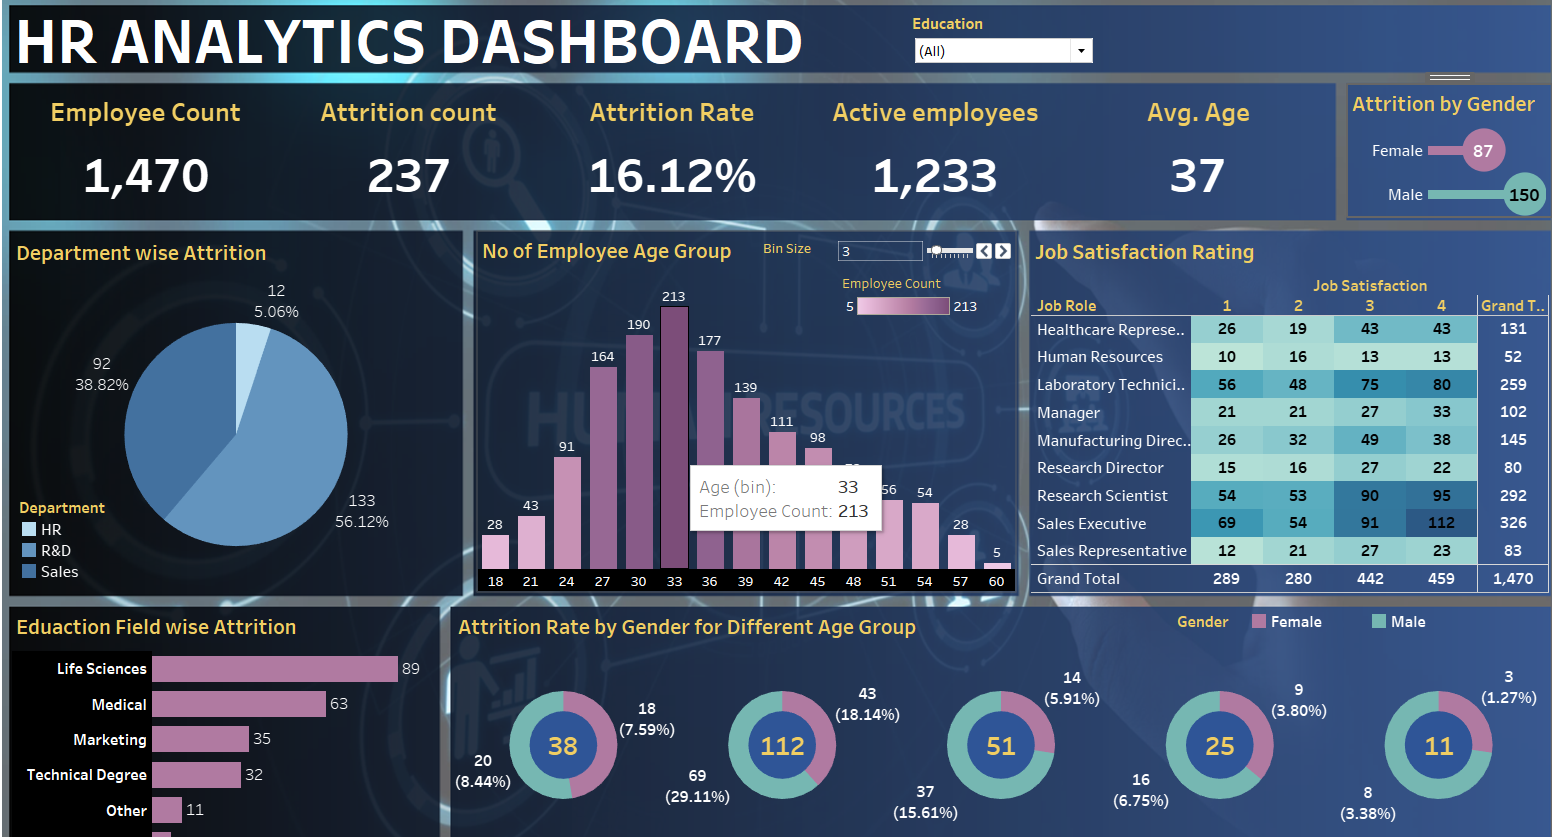

What the dashboard file says about the page in this screenshot:
{"tool":"tableau","page":{"name":"HR ANALYTICS DASHBOARD","canvas":[1580,900],"ordinal":0},"visuals":[{"type":"image","param":"Image/B1.png","box":[8,8,1564,884]},{"type":"text","box":[21,23,899,59]},{"type":"filter","title":"Department wise Attrition","param":"[federated.02vg9jq0c21v1b14svrlw1w6p17q].[none:Education:nk]","box":[922,27,184,53]},{"type":"worksheet","title":"Attrition by Gender","mark":"Automatic","rows":["Gender"],"cols":["Calculation_767019370919948288","Calculation_767019370919948288"],"box":[1358,99,204,131]},{"type":"worksheet","title":"KPI","mark":"Automatic","box":[24,102,1316,129]},{"type":"worksheet","title":"No of Employee Age Group","mark":"Automatic","rows":["Employee Count"],"cols":["Age (bin)"],"box":[488,246,537,359]},{"type":"worksheet","title":"Job Satisfaction Rating","mark":"Square","rows":["Job Role"],"cols":["Job Satisfaction"],"box":[1041,247,519,360]},{"type":"worksheet","title":"Department wise Attrition","mark":"Pie","box":[22,248,448,358]},{"type":"parameter","param":"[Parameters].[Parameter 1]","box":[773,252,251,39]},{"type":"legend","title":"No of Employee Age Group","param":"[federated.02vg9jq0c21v1b14svrlw1w6p17q].[sum:Employee Count:qk]","box":[852,288,140,57]},{"type":"legend","title":"Department wise Attrition","param":"[federated.02vg9jq0c21v1b14svrlw1w6p17q].[none:Department:nk]","box":[29,511,97,85]},{"type":"worksheet","title":"Eduaction Field wise Attrition","mark":"Automatic","rows":["Education Field"],"cols":["Calculation_767019370919948288"],"box":[22,622,425,255]},{"type":"worksheet","title":"Attrition Rate by Gender for Different Age Group","mark":"Pie","rows":["Calculation_578712611751464960","Calculation_578712611751464960"],"cols":["CF_age band"],"box":[464,622,1094,256]},{"type":"legend","title":"Attrition Rate by Gender for Different Age Group","param":"[federated.02vg9jq0c21v1b14svrlw1w6p17q].[none:Gender:nk]","box":[1187,625,371,40]}]}

Visuals, with their boxes on the page's 1580x900 design canvas (x1, y1, x2, y2). These are canvas units, not pixel positions in the 1552x837 screenshot, which may show the page scaled, cropped or inside an application window:
image: BBox(8, 8, 1572, 892)
text: BBox(21, 23, 920, 82)
"Department wise Attrition" filter: BBox(922, 27, 1106, 80)
"Attrition by Gender" worksheet: BBox(1358, 99, 1562, 230)
"KPI" worksheet: BBox(24, 102, 1340, 231)
"No of Employee Age Group" worksheet: BBox(488, 246, 1025, 605)
"Job Satisfaction Rating" worksheet (Square marks): BBox(1041, 247, 1560, 607)
"Department wise Attrition" worksheet (Pie marks): BBox(22, 248, 470, 606)
parameter: BBox(773, 252, 1024, 291)
"No of Employee Age Group" legend: BBox(852, 288, 992, 345)
"Department wise Attrition" legend: BBox(29, 511, 126, 596)
"Eduaction Field wise Attrition" worksheet: BBox(22, 622, 447, 877)
"Attrition Rate by Gender for Different Age Group" worksheet (Pie marks): BBox(464, 622, 1558, 878)
"Attrition Rate by Gender for Different Age Group" legend: BBox(1187, 625, 1558, 665)
